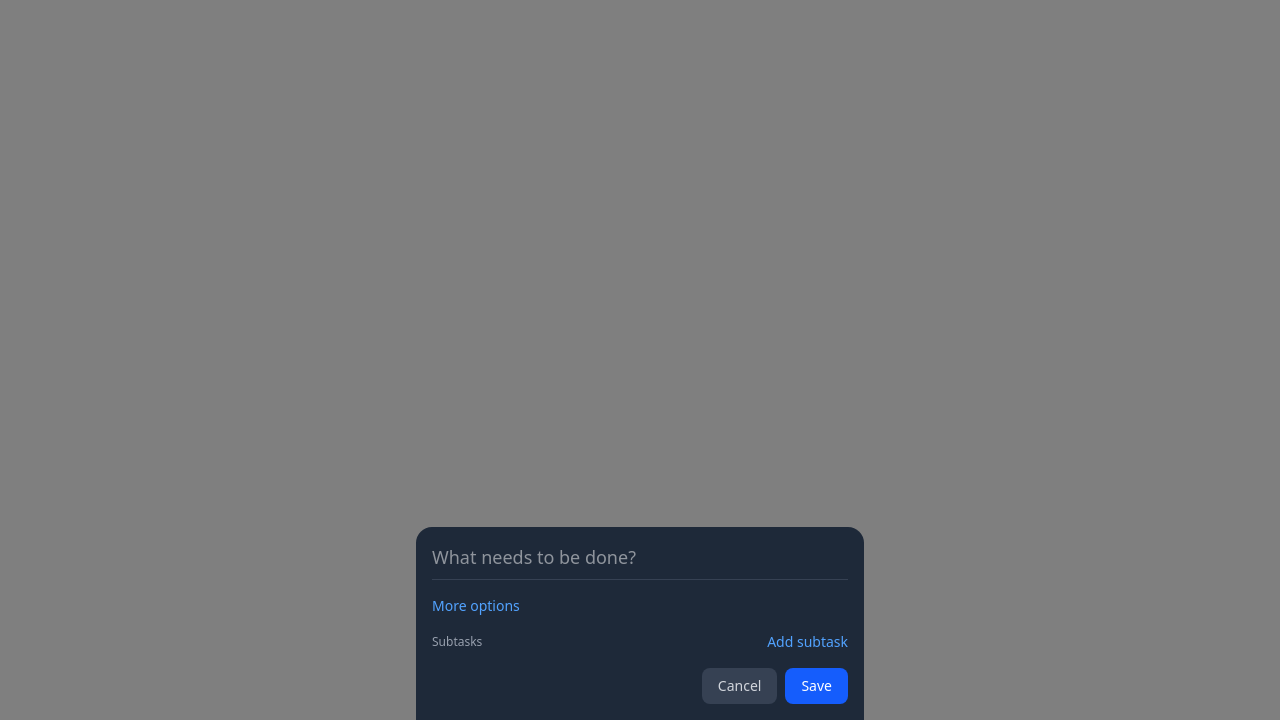
it: TaskModal › toggles extra fields on click
This screenshot has width=1280, height=720.
Expected: the text "Priority" is not shown
Click the button "More options": click(476, 606) [432,596,520,616]
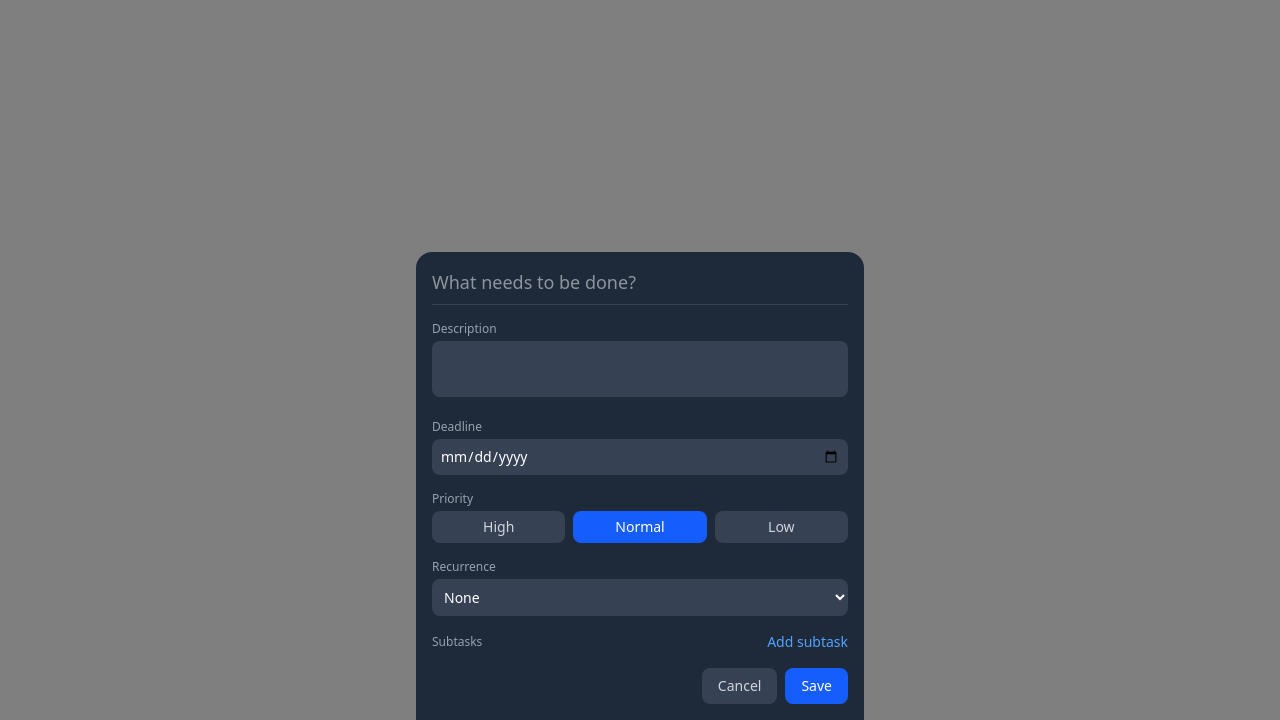
Expected: the text "Priority" is shown, [432,490,473,507]
